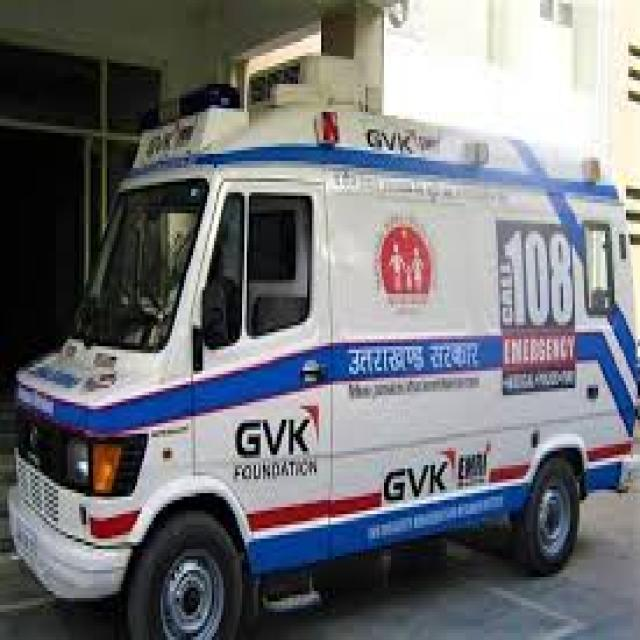Ambulance: (4, 77, 640, 640)
